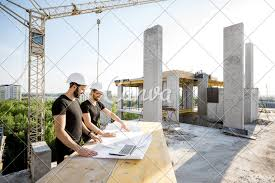helmet: (65, 72, 88, 85), (92, 81, 104, 92)
